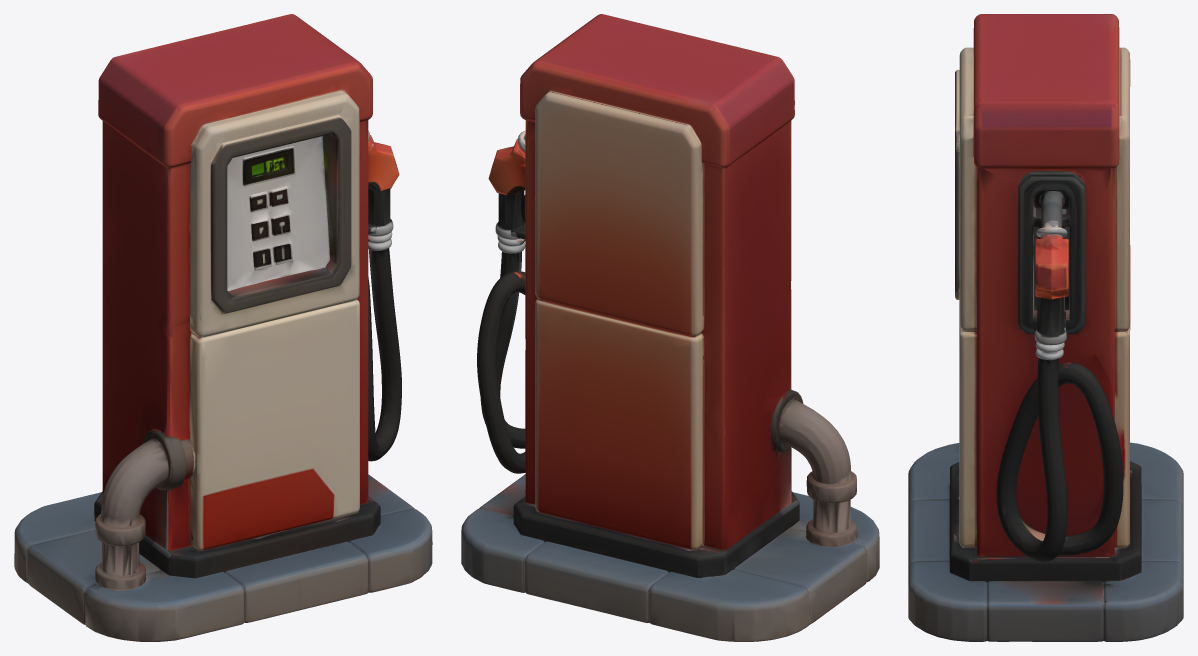
The model's file is FuelPump.fbx.
3 renders of one model, left to right at view 1: azimuth 30°, elevation 25°; view 2: azimuth 150°, elevation 25°; view 3: azimuth 270°, elevation 25°, orthographic.
Parts seen in each view (by area): view 1: texture_pbr_v128; view 2: texture_pbr_v128; view 3: texture_pbr_v128.
Boxes of the visible parts, x1,y1,x2,y2 form: texture_pbr_v128: (14,14,432,641); texture_pbr_v128: (461,14,879,641); texture_pbr_v128: (908,14,1183,641).
Size of the model in its own units: 69.5 by 94.7 by 46.41.
Materials: 1 (1 with a texture image).
